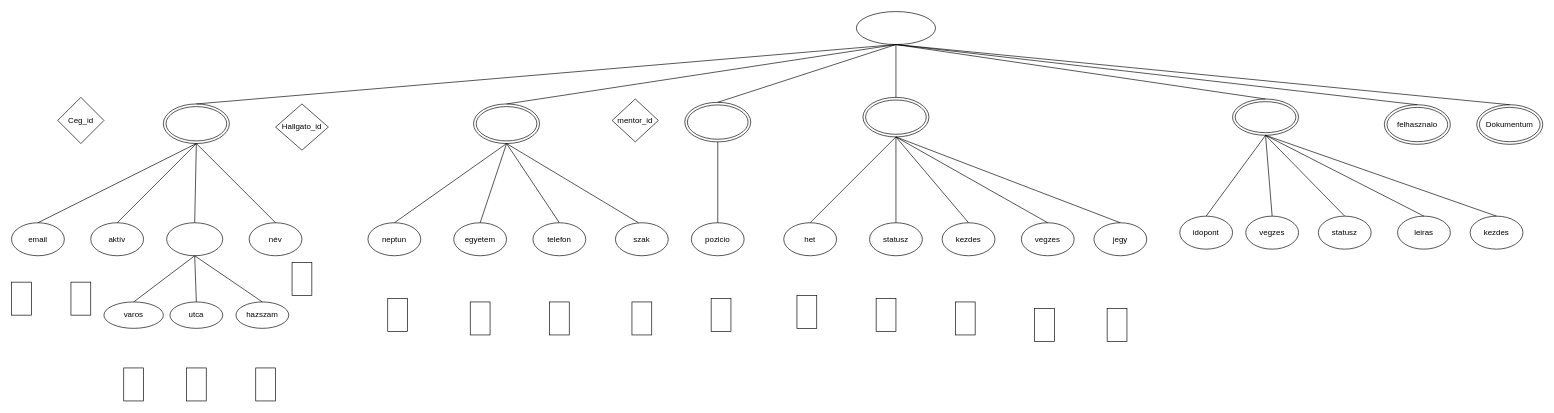
Image size: 1554x413. Some labels were removed from this diagram. The box of each missing label's shape, as (x1, y1, x2, y2) in pixels:
Ceg: (163, 103, 229, 144)
cim: (166, 222, 223, 256)
Gyakorlat: (862, 97, 929, 137)
gyakorlati_ora: (1232, 98, 1299, 135)
gyakorlatihelyek: (856, 11, 936, 45)
Hallgato: (473, 103, 540, 144)
Mentor: (684, 102, 751, 142)
